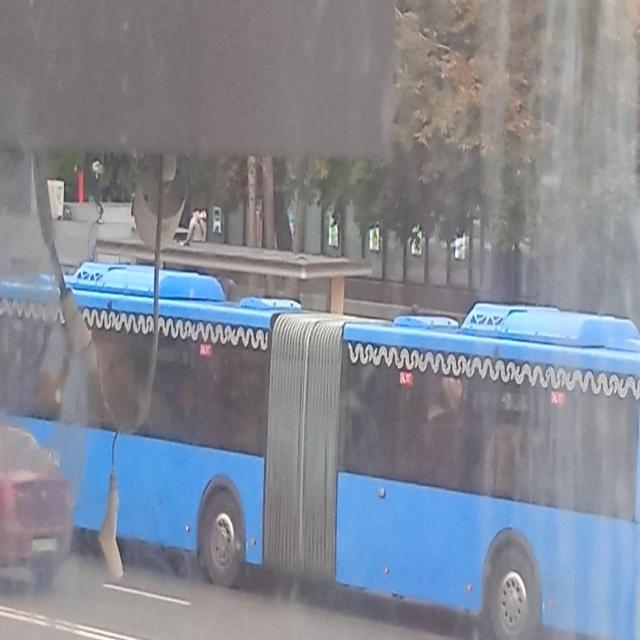bus: (0, 264, 640, 620)
